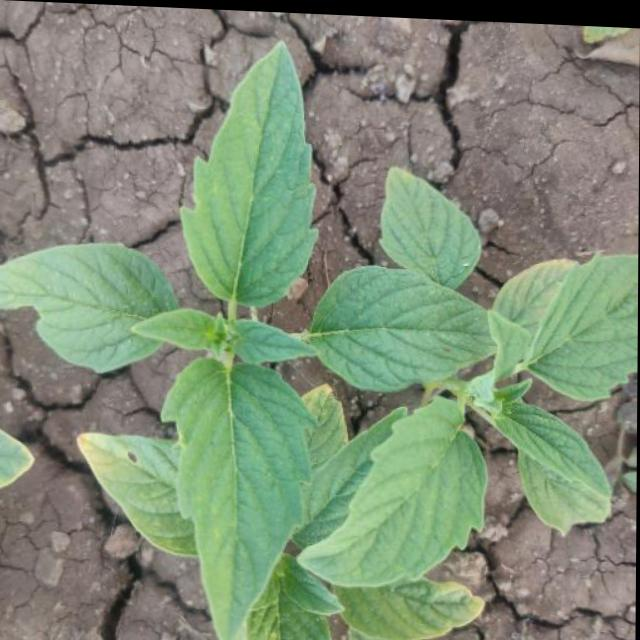crop: (0, 26, 627, 628)
